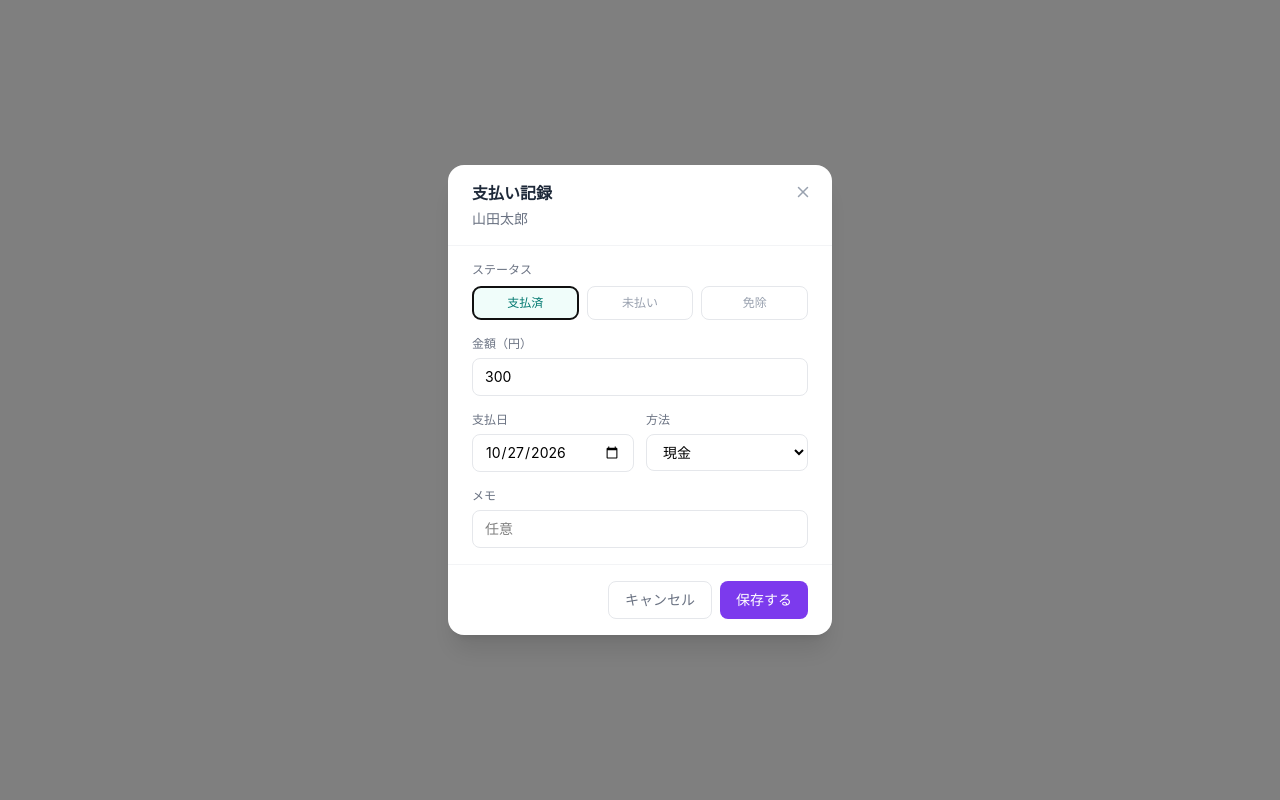
RecordModal（保存） › 保存に失敗した場合はエラーメッセージを表示する
Click the button "保存する": (764, 600) left=720, top=581, right=808, bottom=619
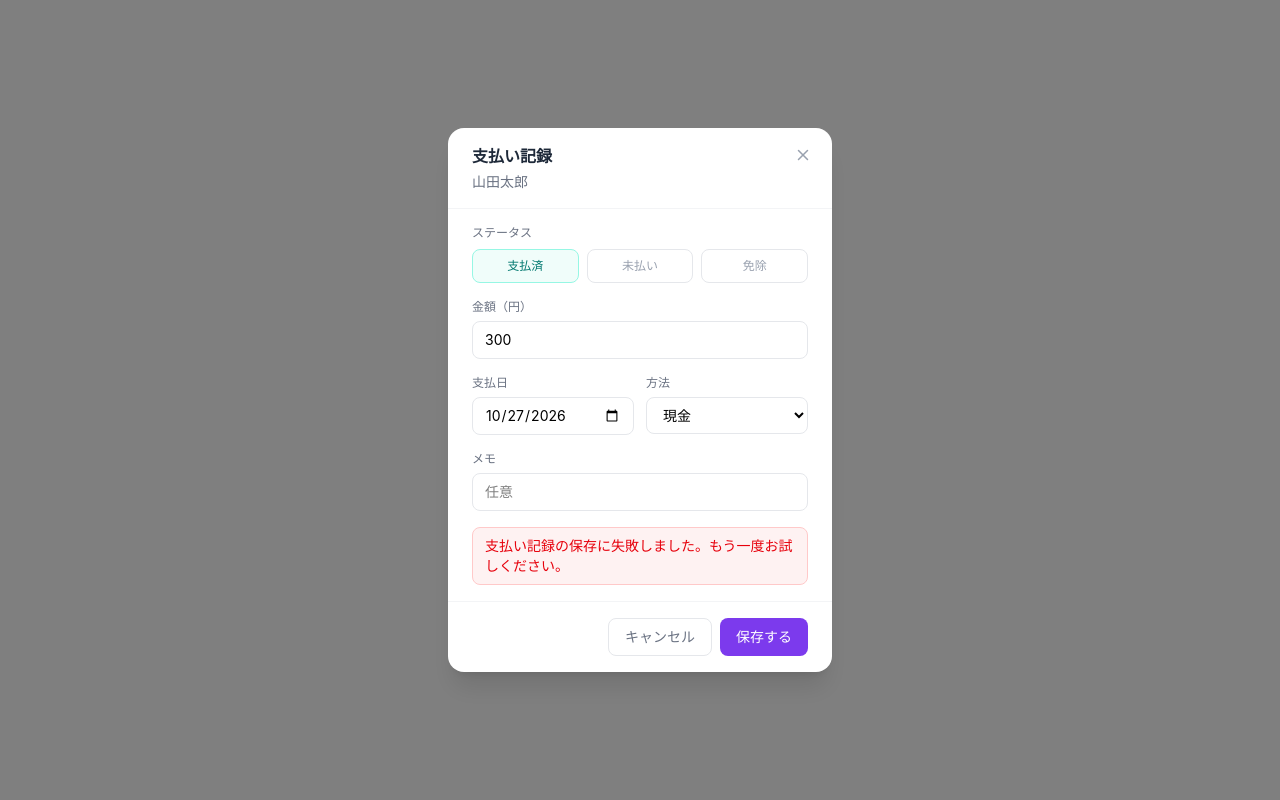
Expected: the message reads "支払い記録の保存に失敗しました。もう一度お試しください。", left=485, top=537, right=793, bottom=574
